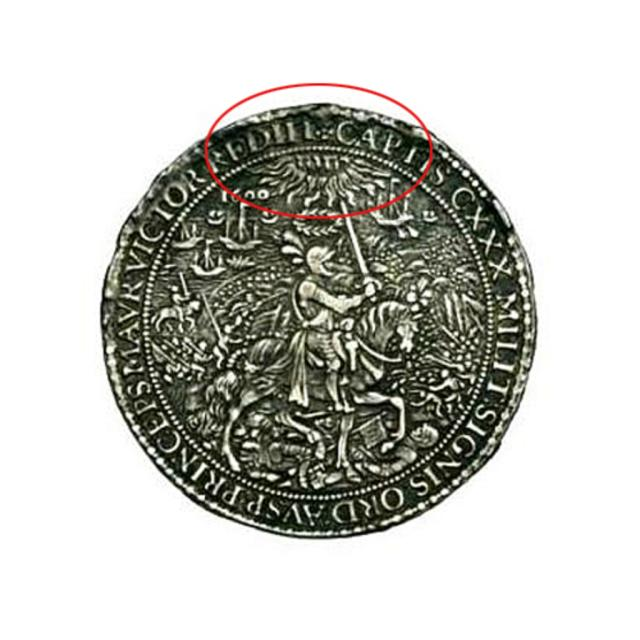Coin: (96, 99, 538, 535)
